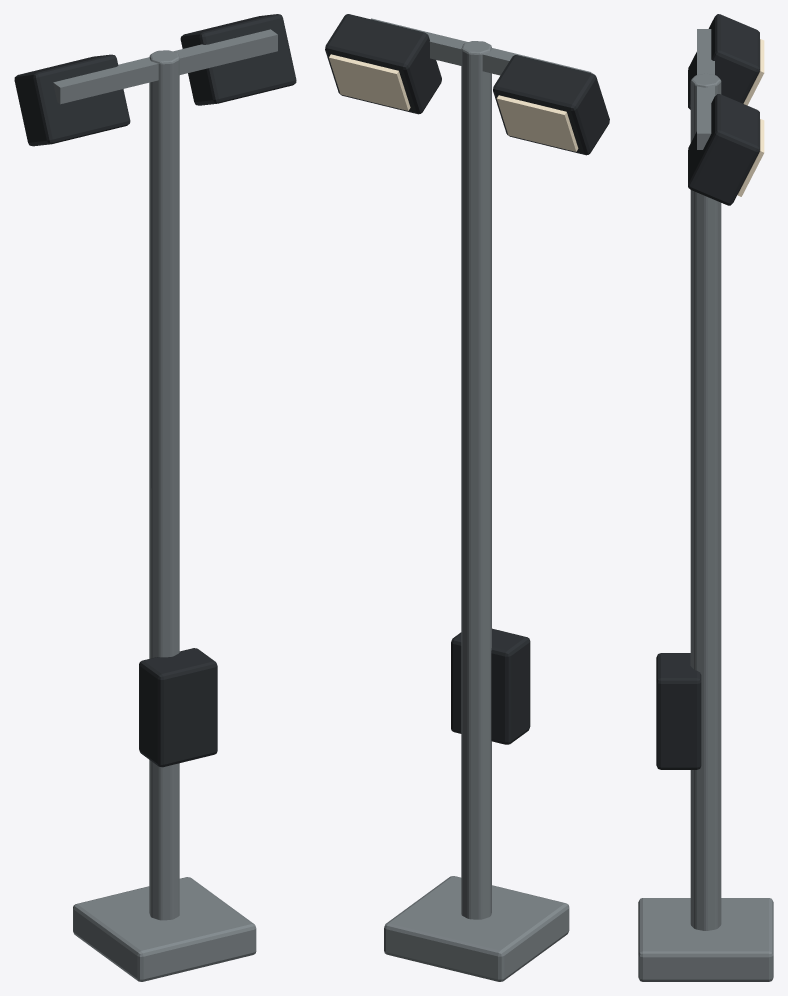
File: prop_floodlight.glb
3 renders of one model, left to right at view 1: azimuth 30°, elevation 25°; view 2: azimuth 150°, elevation 25°; view 3: azimuth 270°, elevation 25°, orthographic. The views are drawn at different scales.
Parts seen in each view (by area): view 1: Floodlight_mesh; view 2: Floodlight_mesh; view 3: Floodlight_mesh.
Part boxes in pixels (box(x1,y1,x2,y2)): Floodlight_mesh: box(14, 14, 296, 981); Floodlight_mesh: box(325, 14, 609, 981); Floodlight_mesh: box(638, 14, 773, 981).
Bounding box in the file's own units: 1.26 × 4.33 × 0.6.
